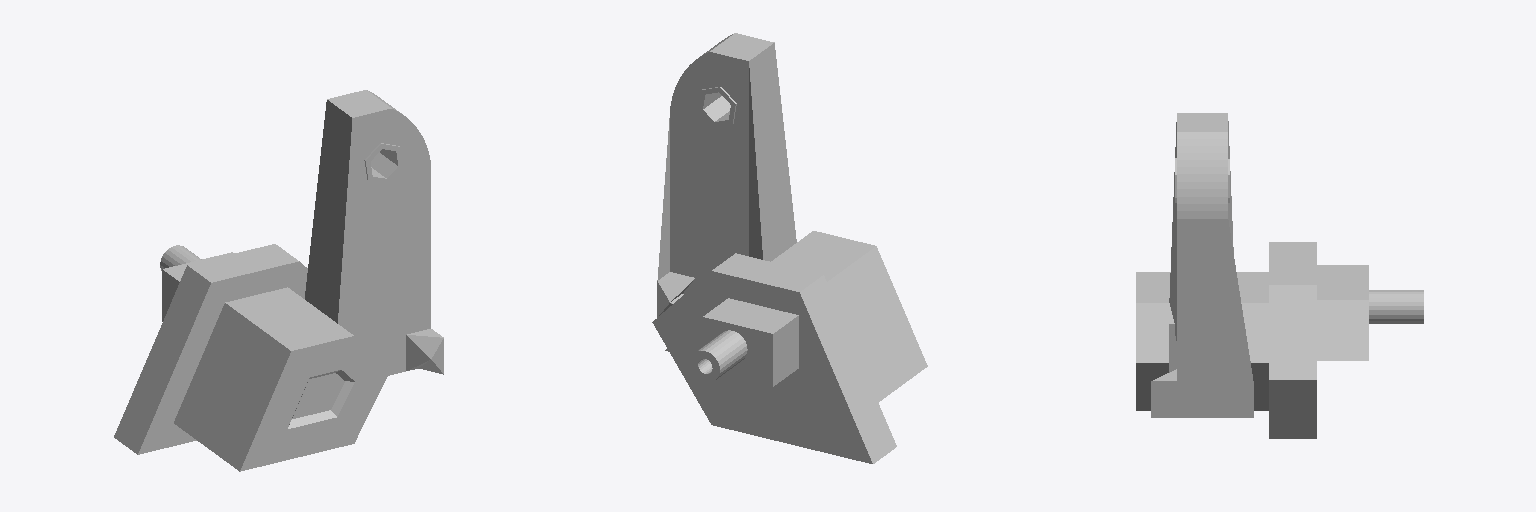
Rendered from Upper Shouder.obj.
3 views of the same model, side by side, from view 1: azimuth 30°, elevation 25°; view 2: azimuth 150°, elevation 25°; view 3: azimuth 270°, elevation 25° (orthographic).
Parts seen in each view (by area): view 1: Mesh1 Model; view 2: Mesh1 Model; view 3: Mesh1 Model.
Part boxes in pixels (x1,y1,x2,y2): Mesh1 Model: (114,90,443,471); Mesh1 Model: (652,33,927,463); Mesh1 Model: (1136,113,1423,438).
Size of the model in its own units: 562 by 715 by 566.